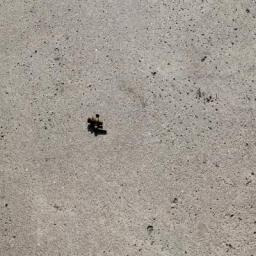FOD: (85, 111, 109, 141)
